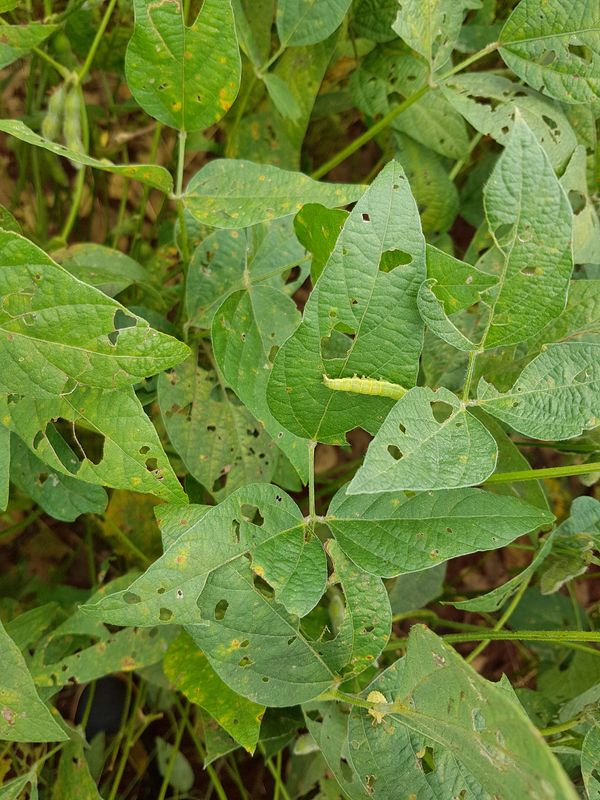Anticarsia_gemmatalis: (305, 356, 422, 420)
Euschistus_heros_ninfa: (354, 684, 403, 729)
